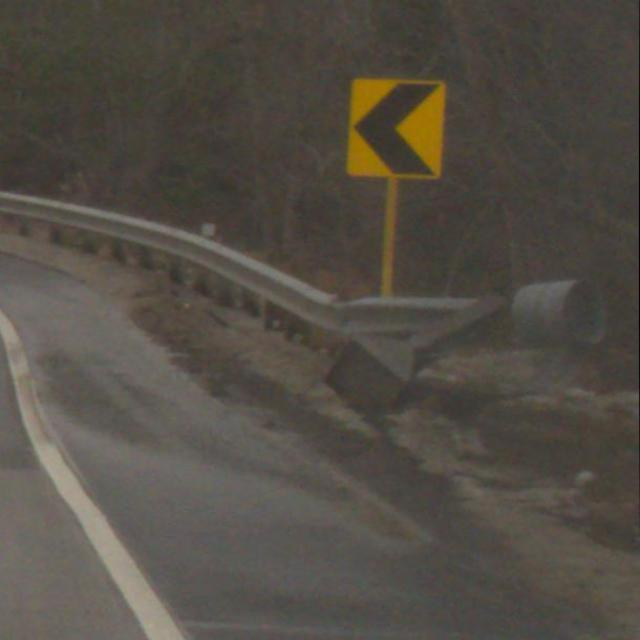Guard rail: (0, 183, 521, 357)
